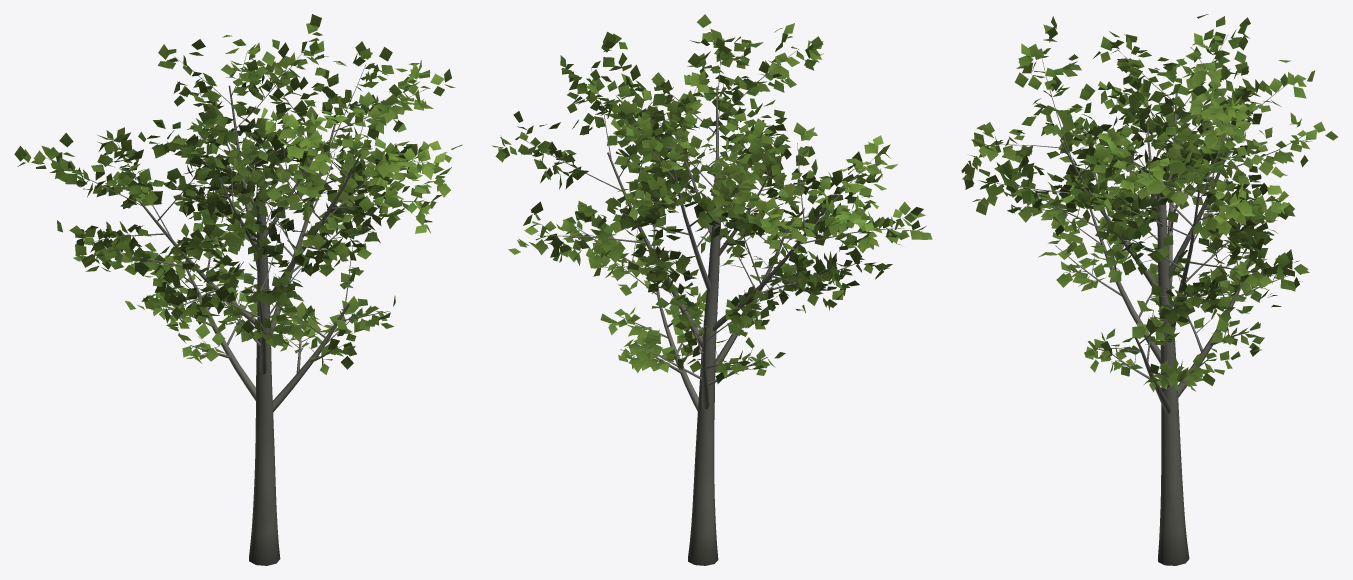
Rendered from beech-c.lod0.glb.
3 views of the same model, side by side, from view 1: azimuth 30°, elevation 25°; view 2: azimuth 150°, elevation 25°; view 3: azimuth 270°, elevation 25° (orthographic). The views are drawn at different scales.
Size of the model in its own units: 10.96 by 14.3 by 9.39.
